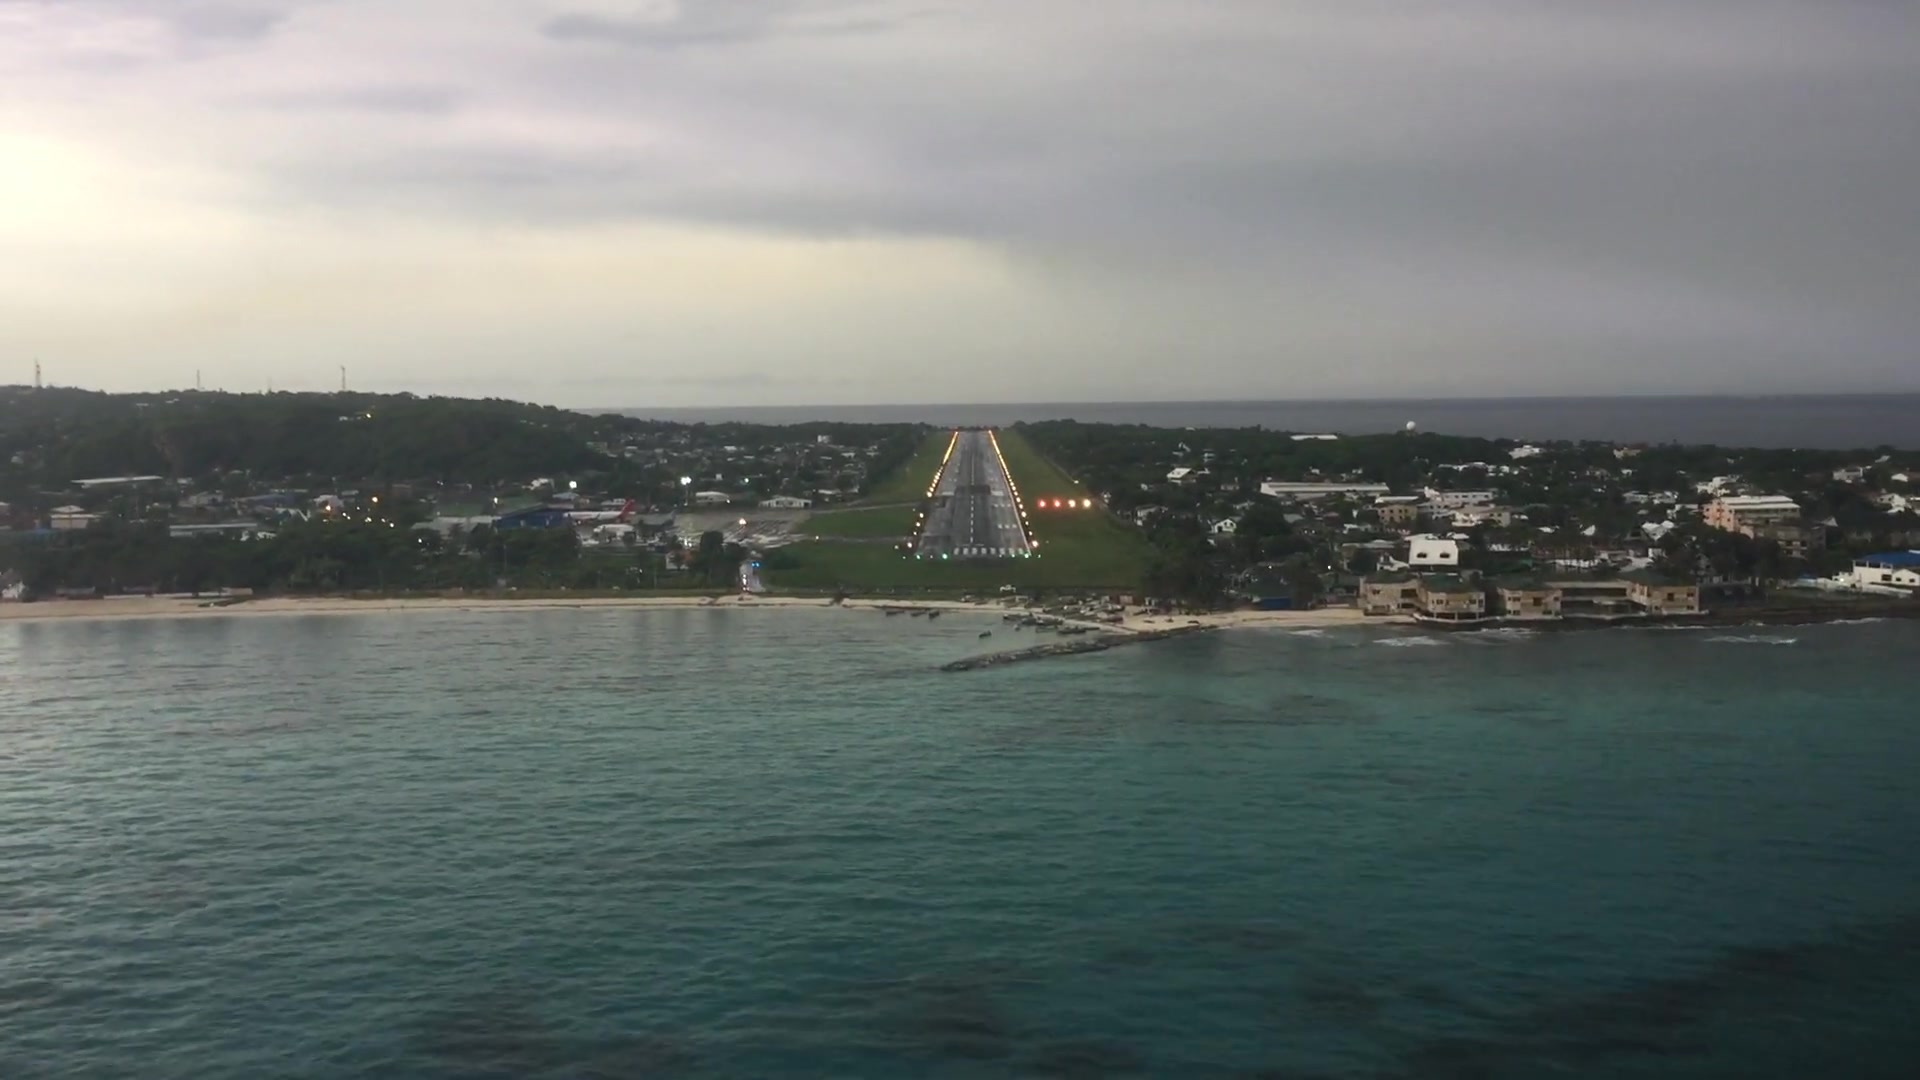entrance: (949, 545, 1027, 558)
runway: (909, 431, 1034, 560)
